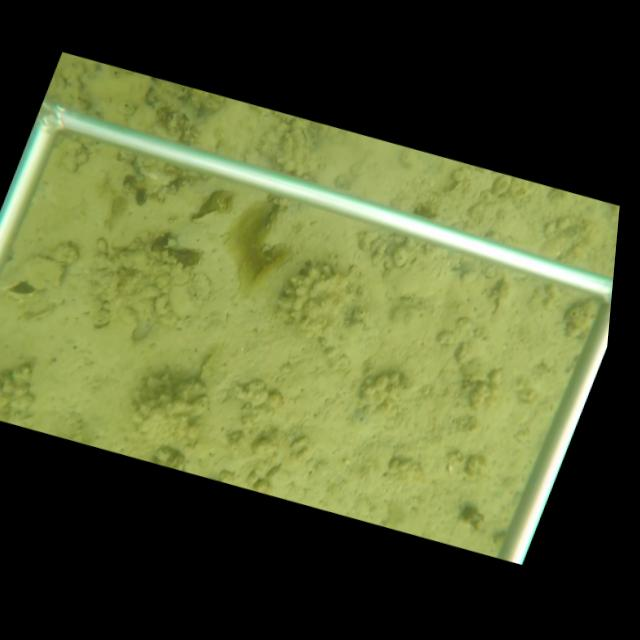Oyster-Open: (2, 275, 49, 304)
